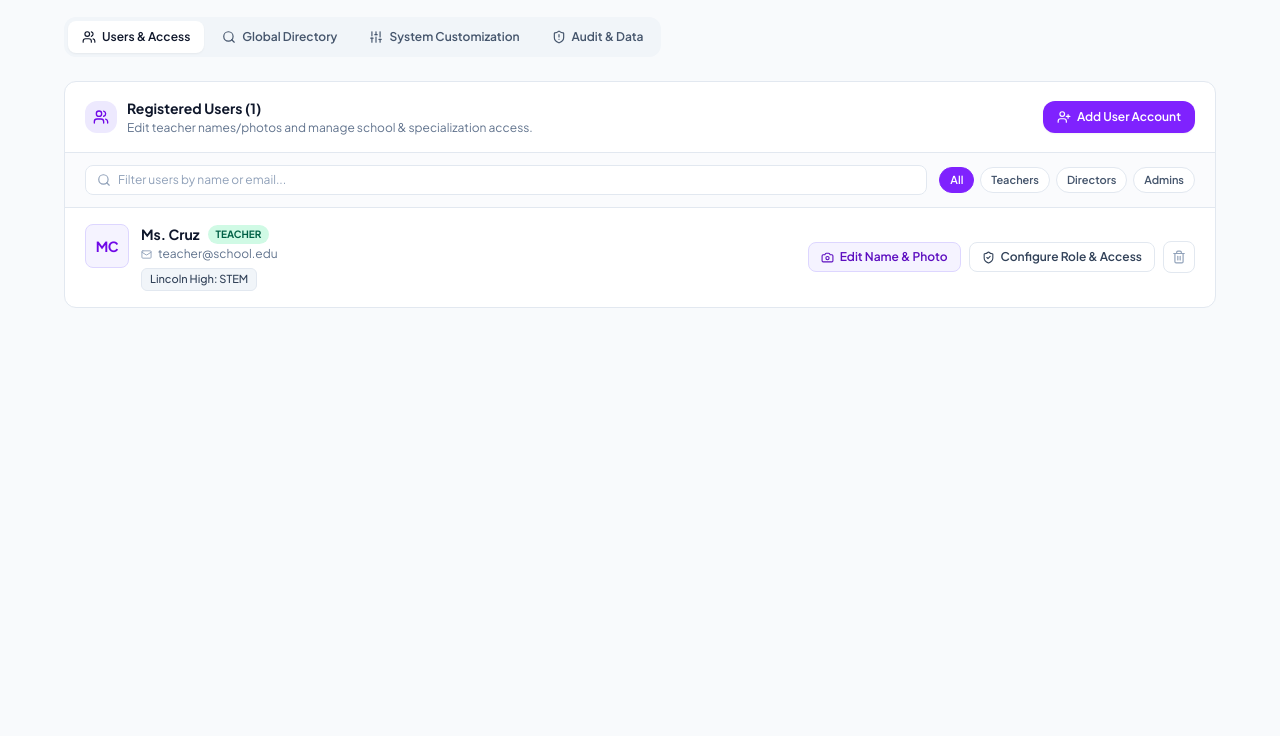
Test: AdminConfigView › allows Admins to inspect users, switch to System Customization, and save threshold/scale
Expected: the text "Ms. Cruz" is shown, [141,224,200,244]
Click the button "System Customization": x=444, y=37 [355,21,534,53]
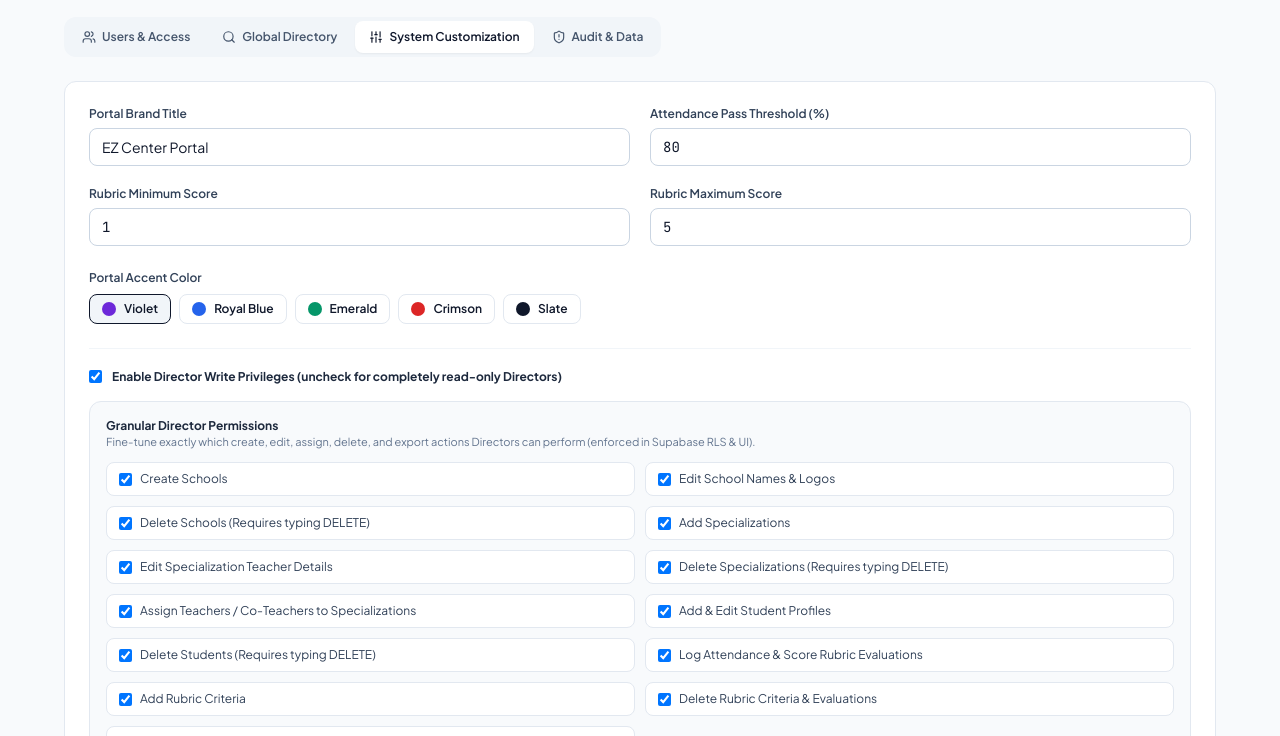
Replace the text in the number field labelled "Attendance Pass Threshold (%)" with "85": x=920, y=147 [650,128,1191,166]
(page scrolled)
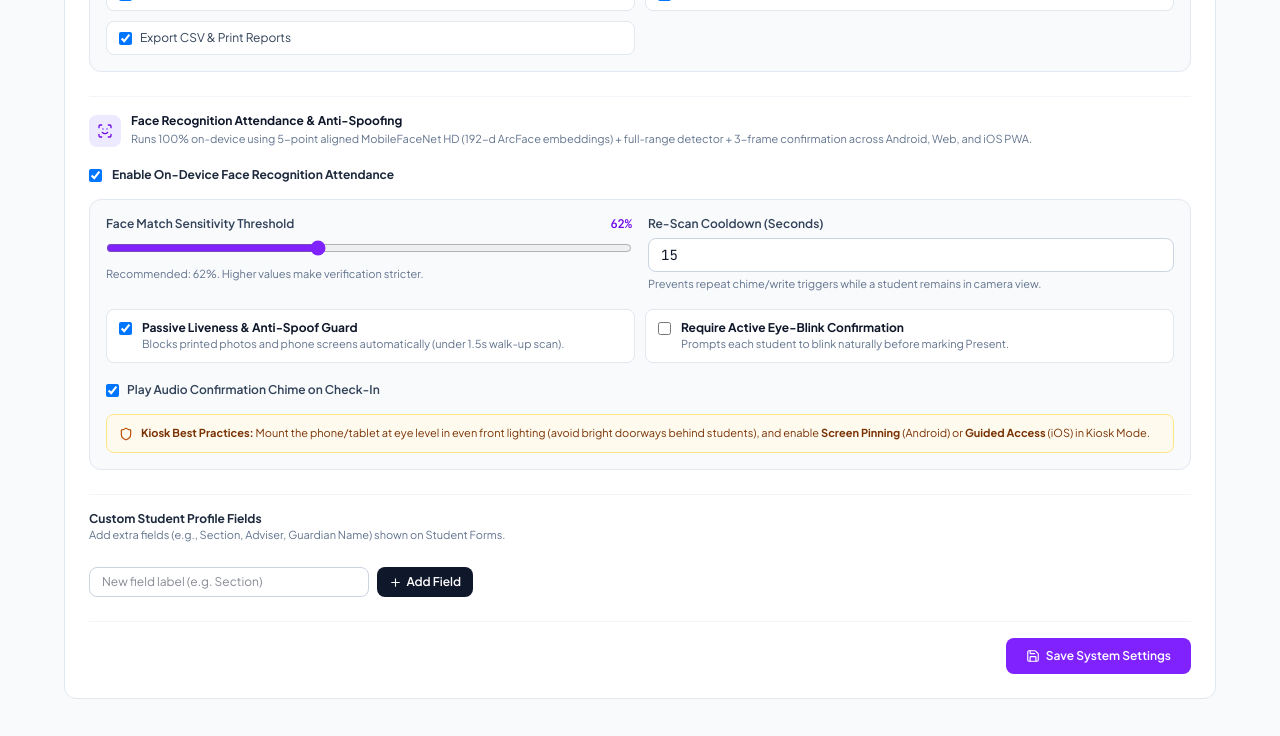
Click the button "Save System Settings": x=1098, y=656 [1006,638,1191,674]
(page scrolled)
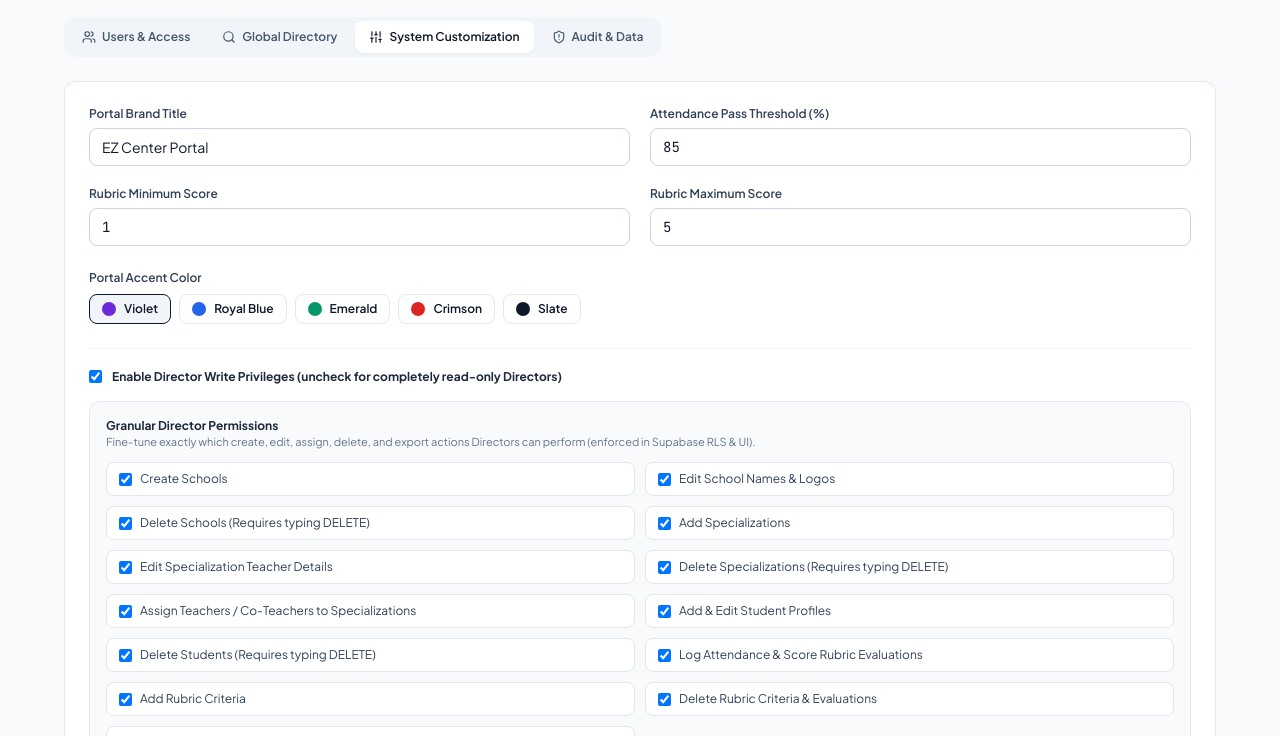
Click the button "Audit & Data": x=597, y=37 [538,21,657,53]
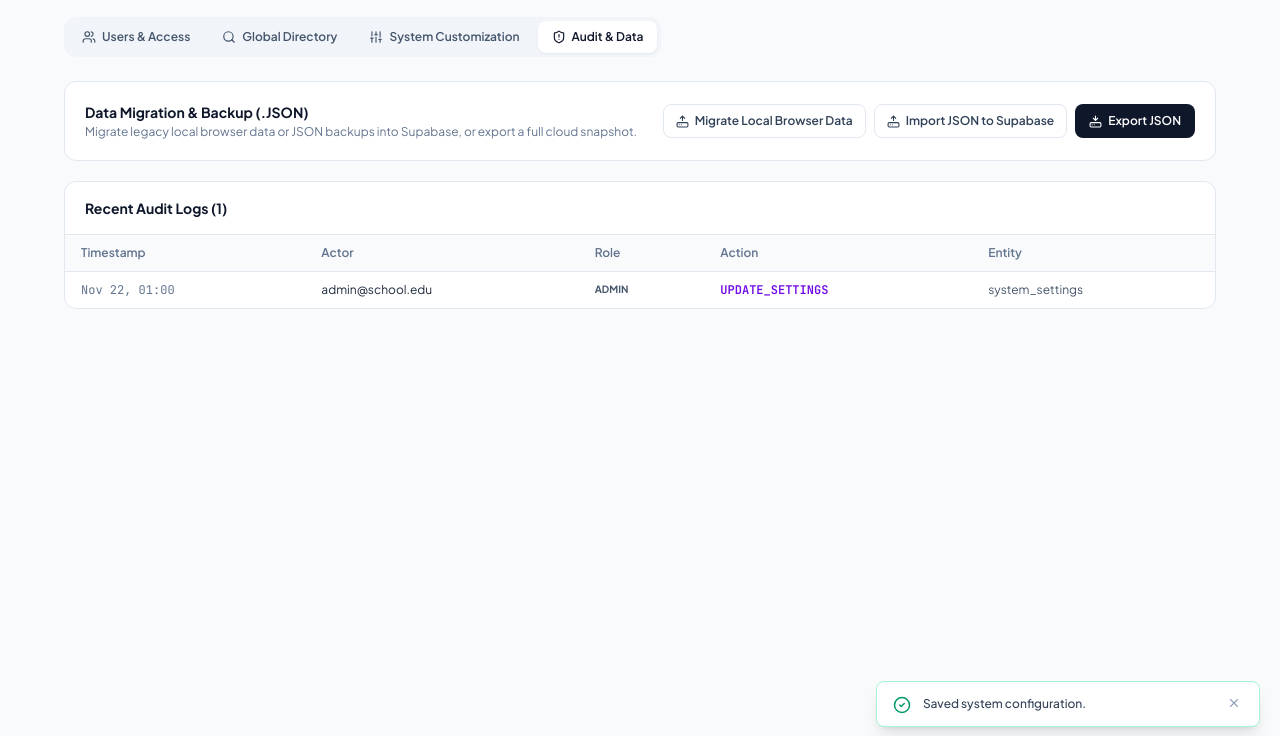
Now the text "UPDATE_SETTINGS" is shown, box [704,272,972,308]
